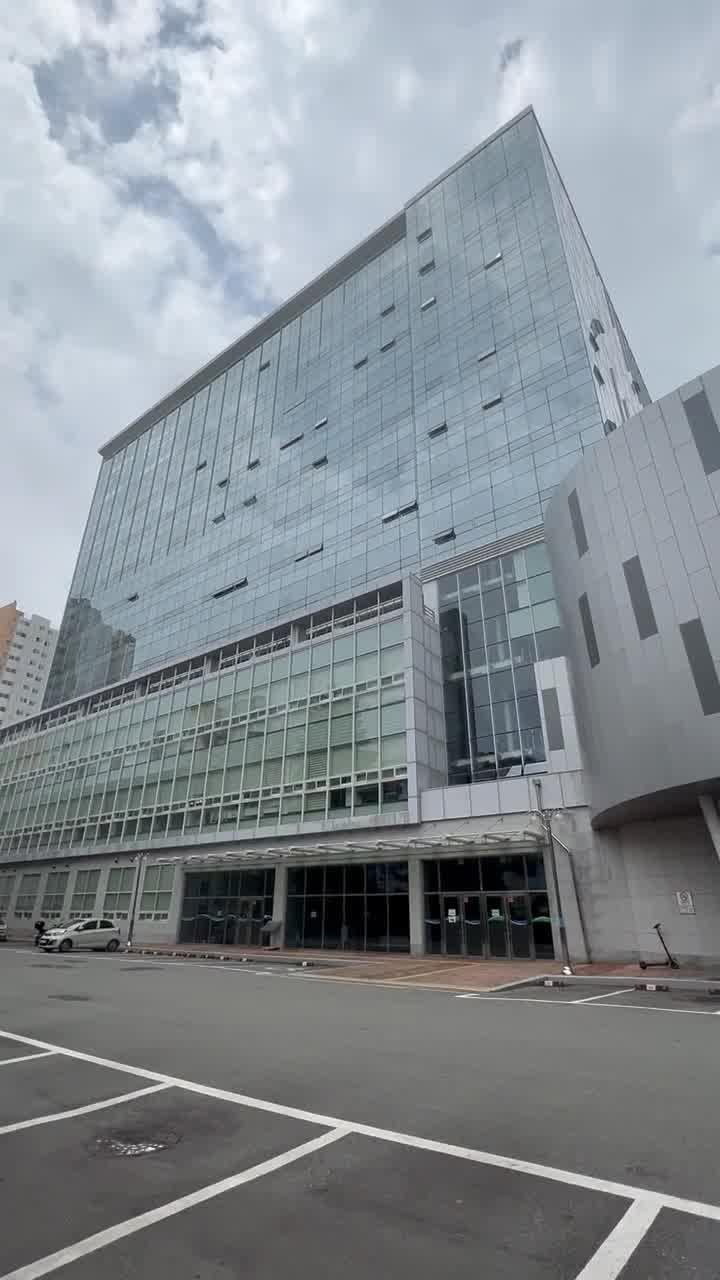building: (62, 320, 720, 946)
